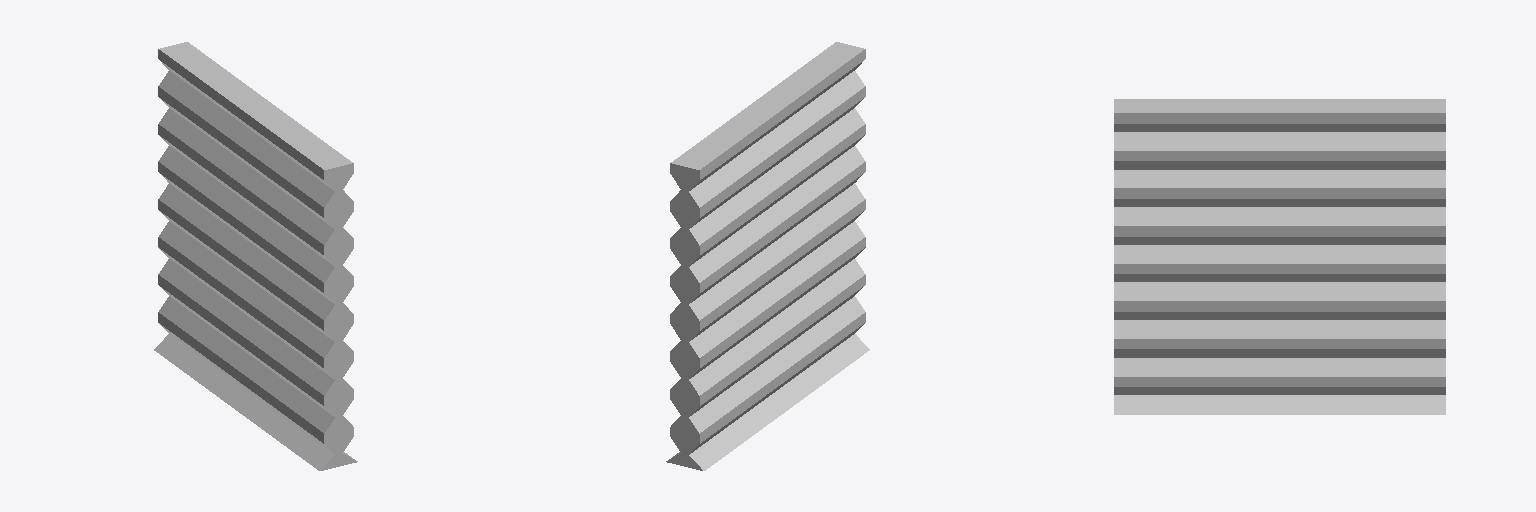
File: WoodWall.obj
3 views of the same model, side by side, from view 1: azimuth 30°, elevation 25°; view 2: azimuth 150°, elevation 25°; view 3: azimuth 270°, elevation 25° (orthographic).
Parts seen in each view (by area): view 1: Cube; view 2: Cube; view 3: Cube.
Part boxes in pixels (left/top/right/bottom): Cube: left=154, top=42, right=357, bottom=470; Cube: left=666, top=42, right=869, bottom=470; Cube: left=1114, top=99, right=1445, bottom=414.
Size of the model in its own units: 0.2688 by 1.99 by 2.